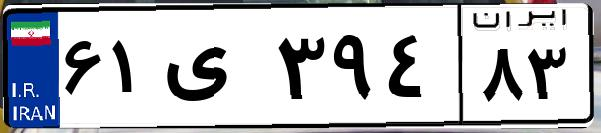1: (110, 28, 158, 98)
3: (270, 28, 330, 110), (525, 38, 570, 115)
4: (385, 28, 445, 110)
6: (57, 26, 110, 100)
8: (475, 38, 525, 113)
9: (330, 28, 385, 110)
ی: (158, 20, 270, 120)
